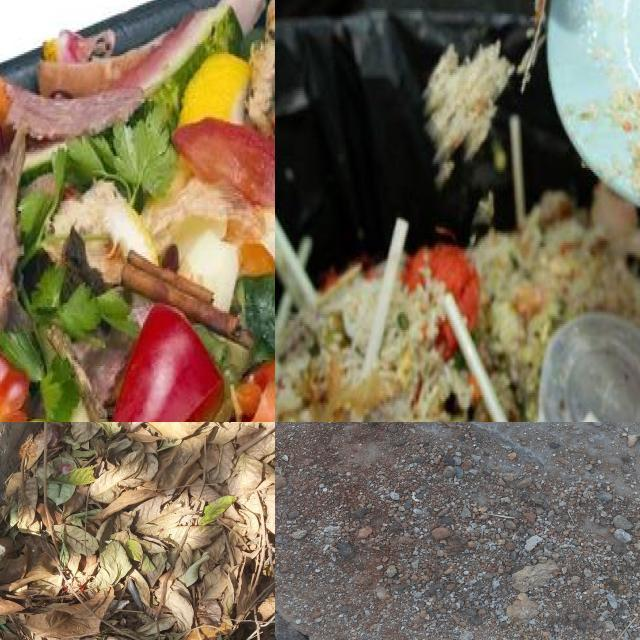Background: (275, 422, 640, 640)
Garbage: (275, 117, 640, 422), (0, 422, 275, 640)
Plastic: (538, 313, 640, 422)
Plastic_Bag: (125, 578, 144, 610)
Plastic_Straw: (445, 292, 510, 422), (362, 218, 408, 377), (361, 218, 406, 377), (508, 115, 526, 229)
